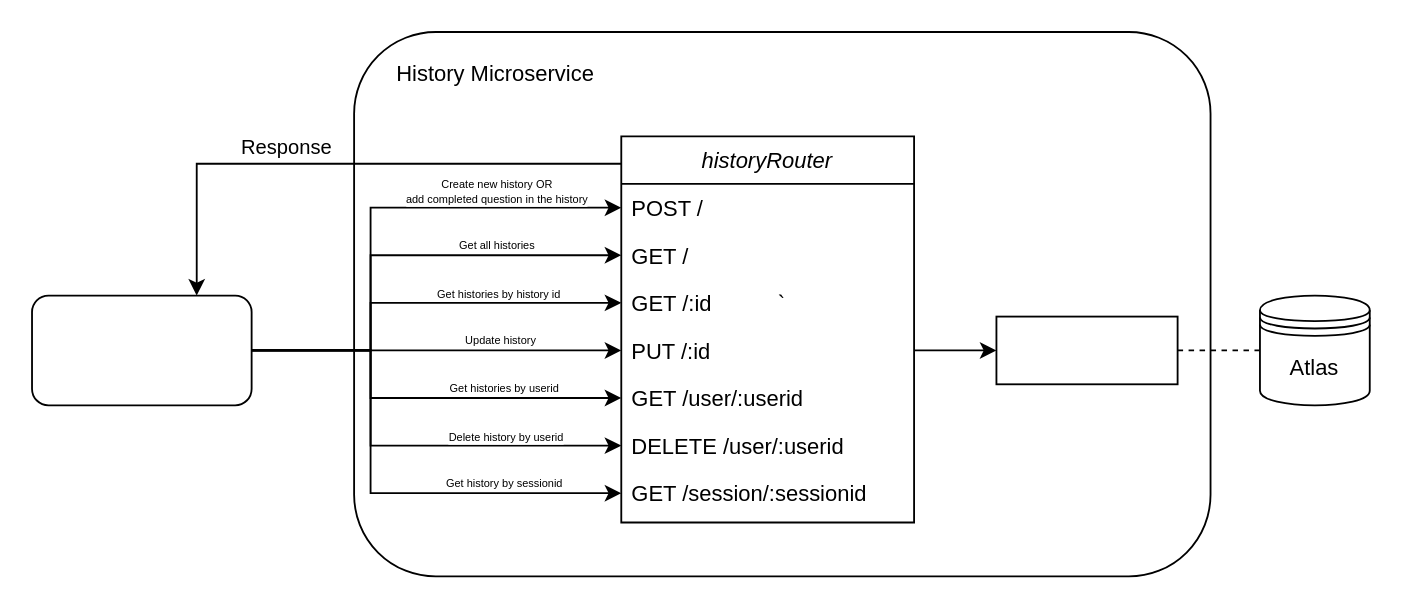
Image size: 1402x609. Some labels were removed from this diagram. The shapes that lost their labels are listed below. From the top down, each one's centre as x and y in pixels, then its label:
At point 141,349: "Frontend".
At point 1086,349: "JwtGuard".
